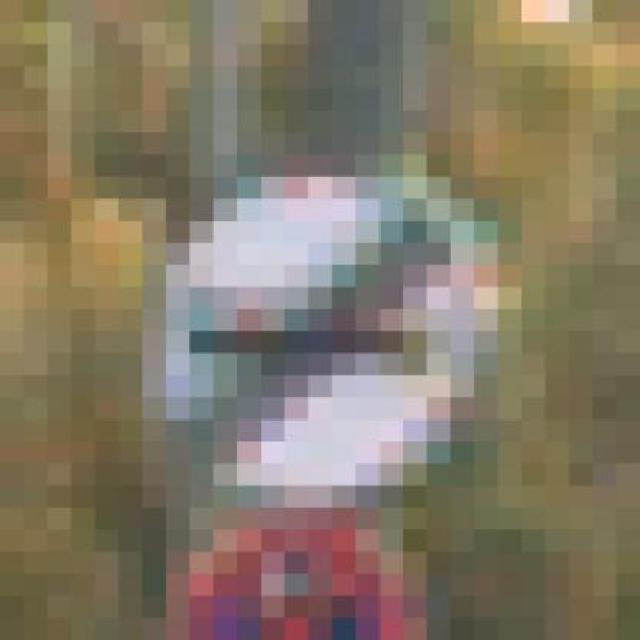No_Over_Taking: (166, 132, 545, 552)
